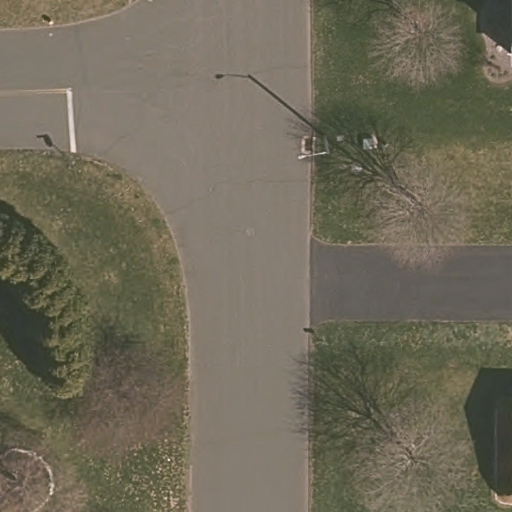DT: (297, 135, 330, 162)
